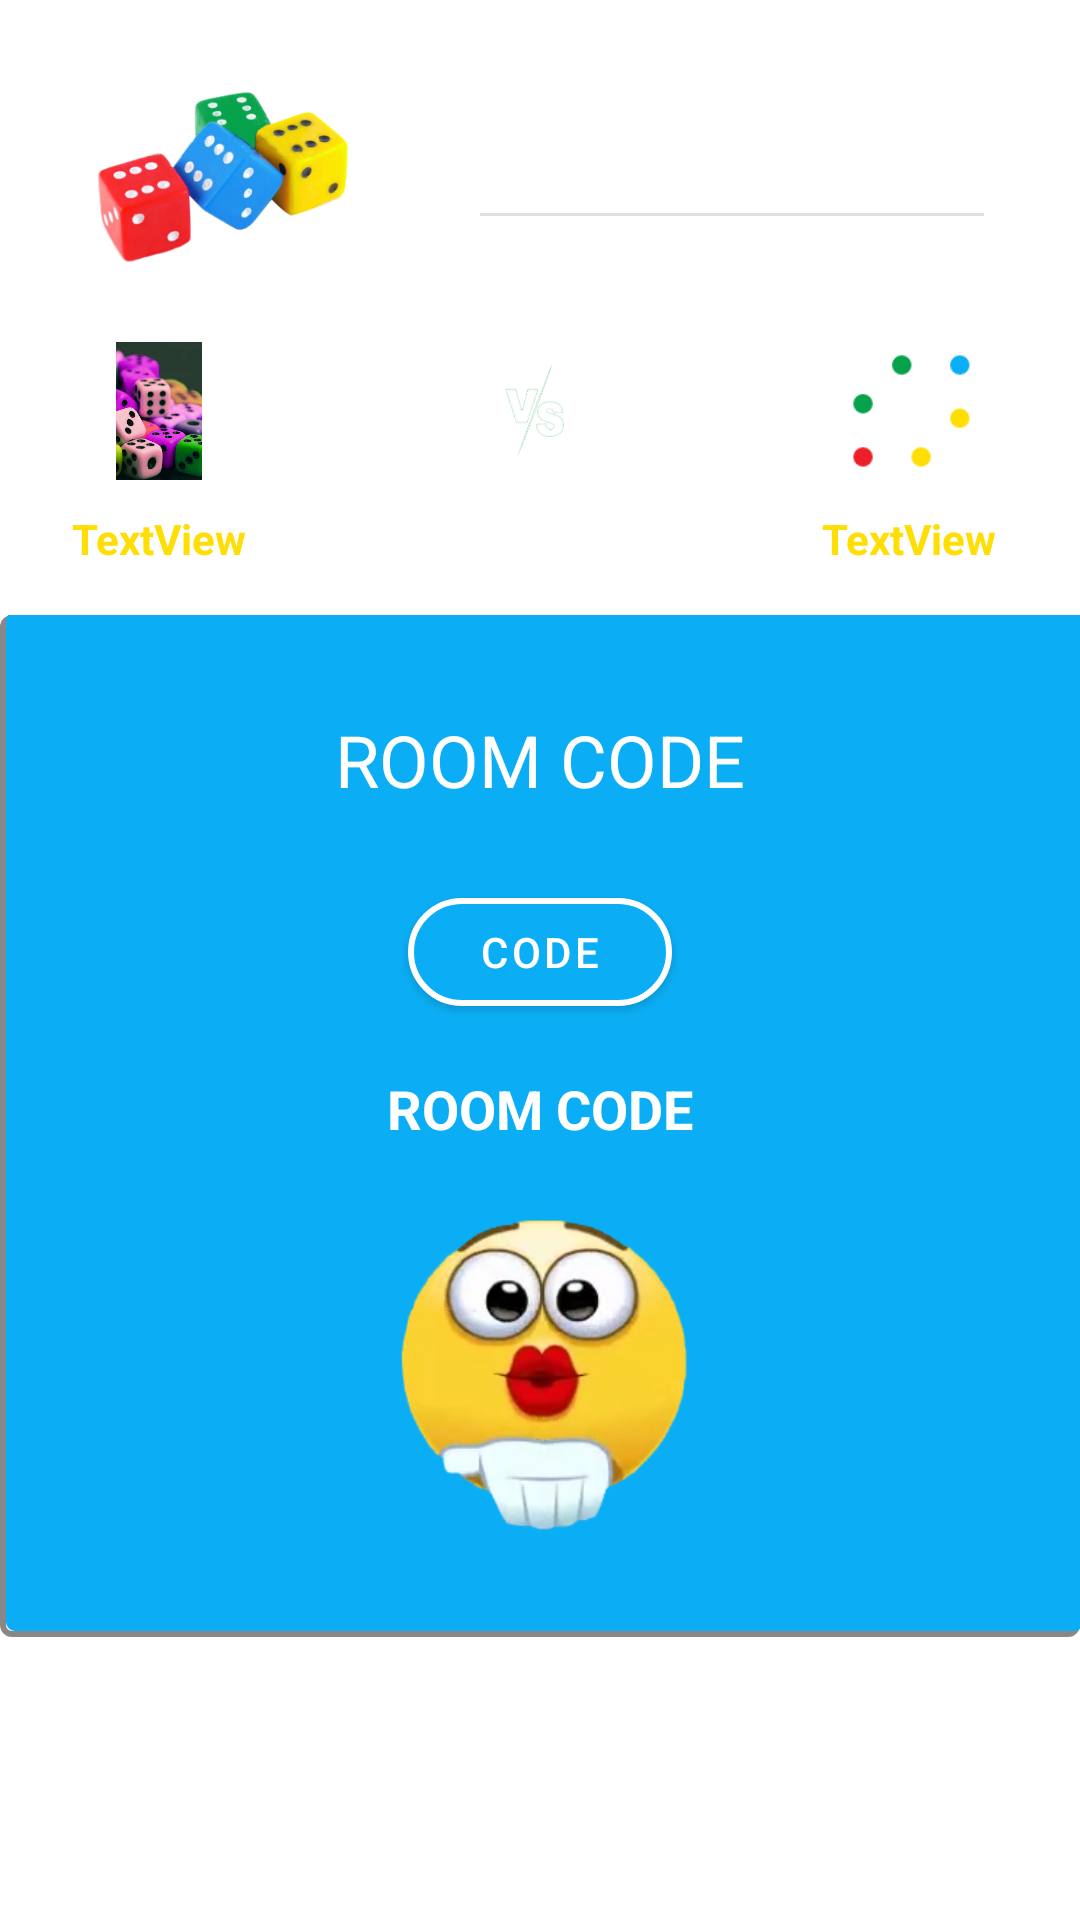

Where to tap for icons on this 1080px x 1920px app screen, as (x,y):
cutesmile: (544,1375)
ludobg: (159,411)
